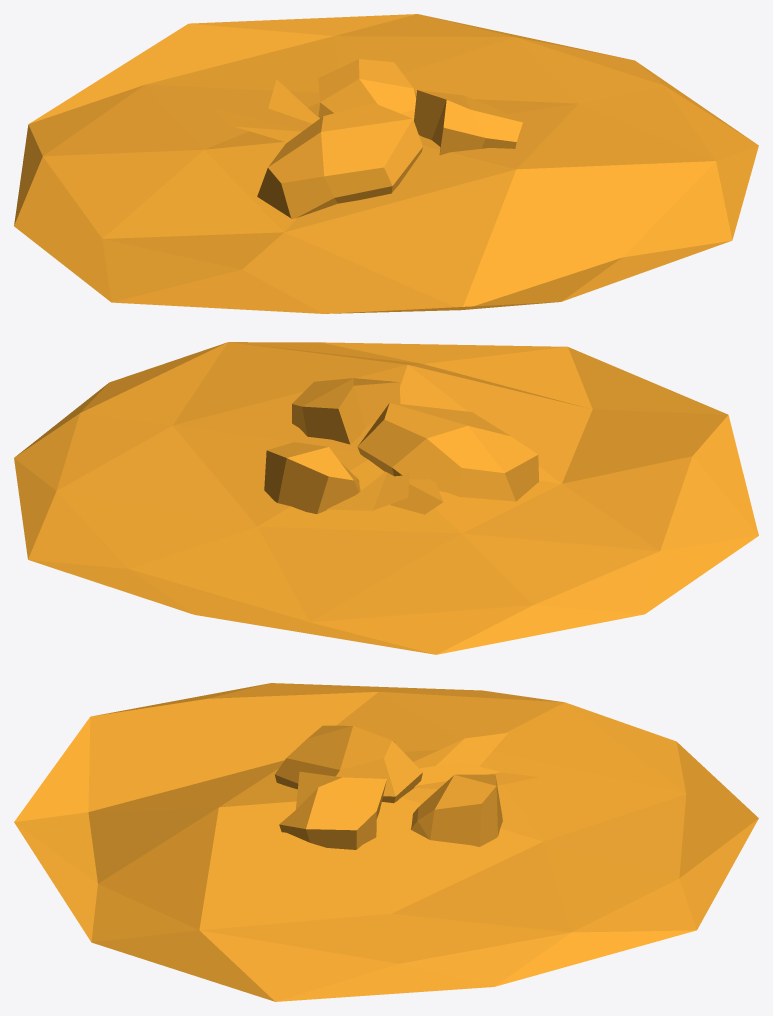
The model's file is SM_Soup_Veggie_B.fbx.
3 views of the same model, one above another, from view 1: azimuth 30°, elevation 25°; view 2: azimuth 150°, elevation 25°; view 3: azimuth 270°, elevation 25° (orthographic).
Visible parts, largest first — view 1: soup-veggie-b; view 2: soup-veggie-b; view 3: soup-veggie-b.
Boxes of the visible parts, <box> form: soup-veggie-b: <box>14,14,758,313</box>; soup-veggie-b: <box>14,342,758,654</box>; soup-veggie-b: <box>14,683,758,1001</box>.
Size of the model in its own units: 0.2358 by 0.0329 by 0.235.
